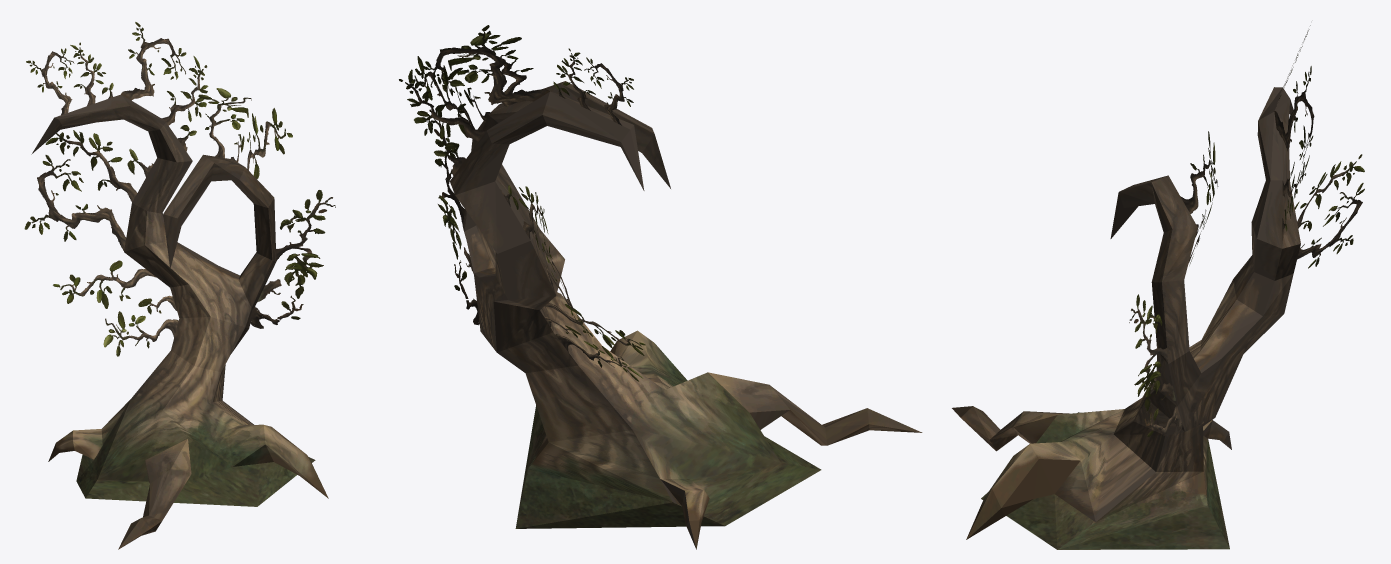
File: plants_gnarled_tree_trunks01.fbx
3 renders of one model, left to right at view 1: azimuth 30°, elevation 25°; view 2: azimuth 150°, elevation 25°; view 3: azimuth 270°, elevation 25°, orthographic. The views are drawn at different scales.
Visible parts, largest first — view 1: obj0.129; view 2: obj0.129; view 3: obj0.129.
Boxes of the visible parts, x1,y1,x2,y2 form: obj0.129: [24, 22, 335, 549]; obj0.129: [399, 25, 922, 549]; obj0.129: [952, 25, 1364, 549].
Size of the model in its own units: 6.05 by 8.06 by 6.35.
